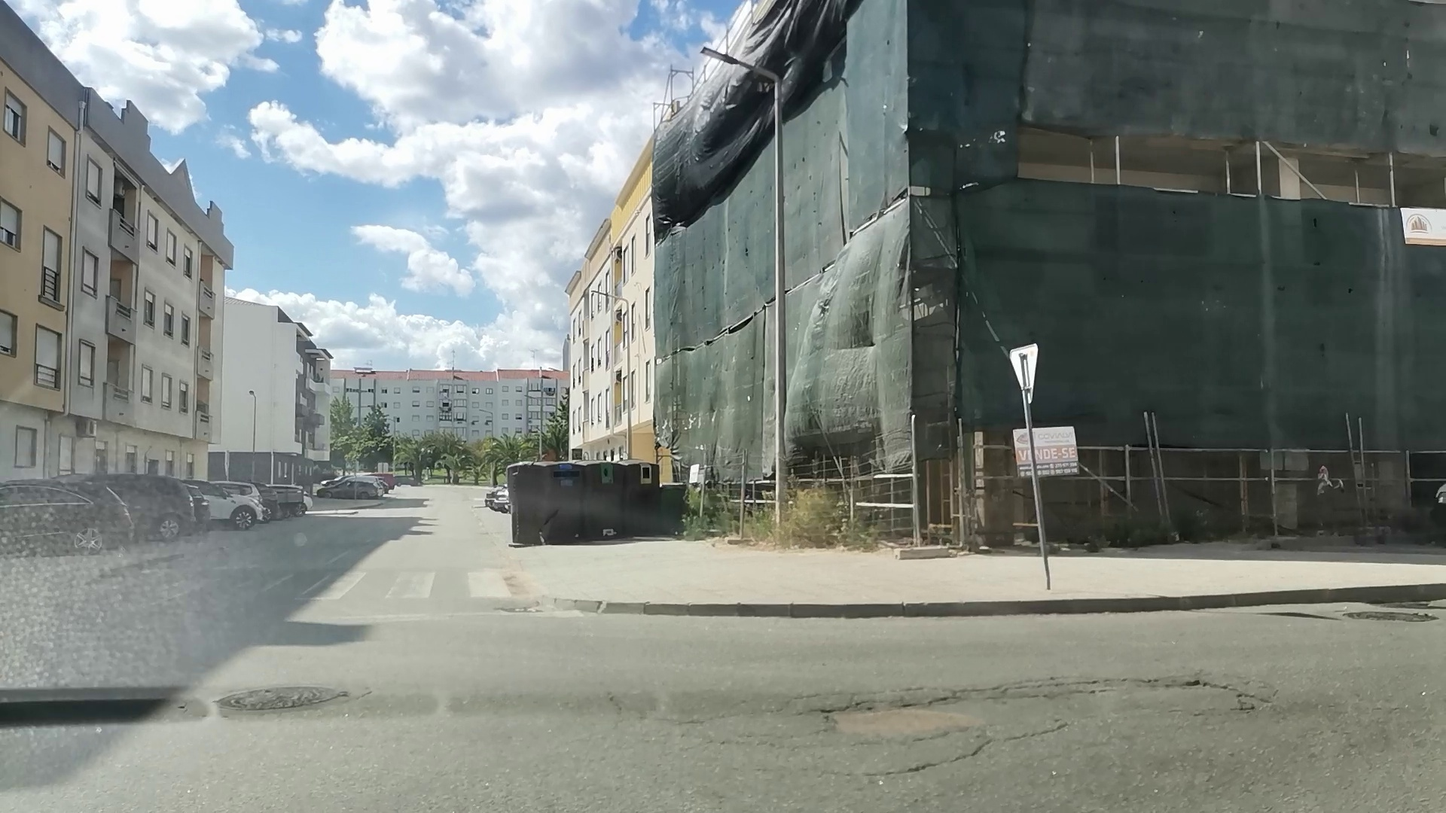Stairs: (85, 567, 511, 602)
